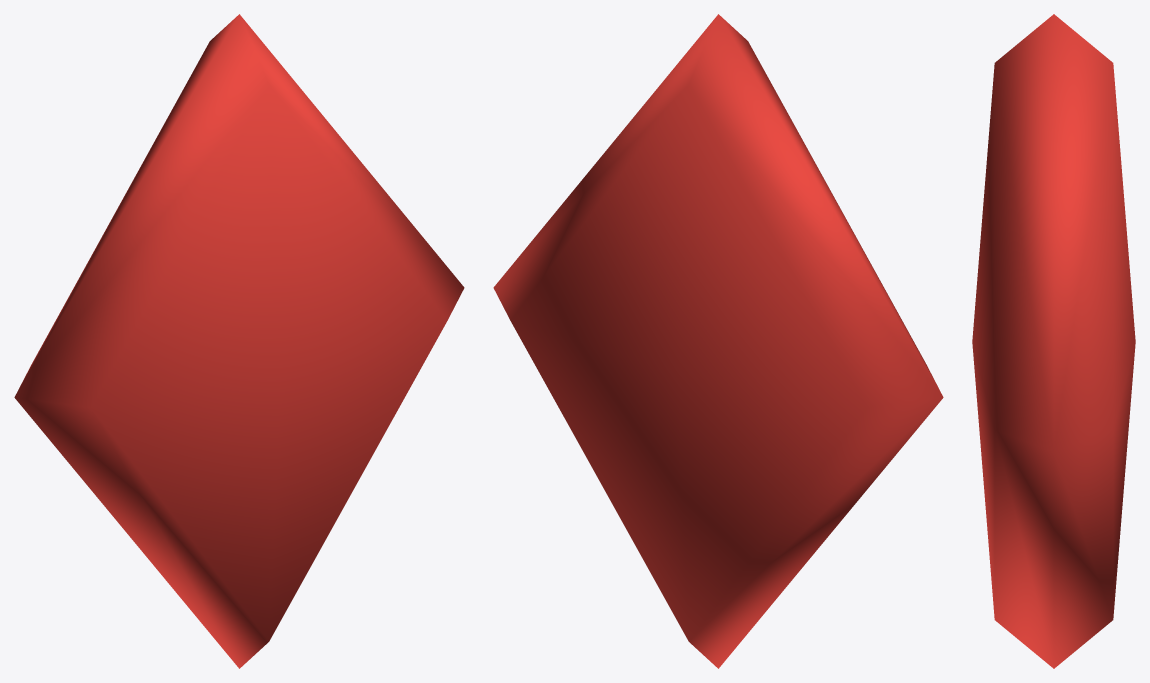
File: diamond.glb
The picture shows the model from 3 angles, left to right: view 1: azimuth 30°, elevation 25°; view 2: azimuth 150°, elevation 25°; view 3: azimuth 270°, elevation 25°; orthographic projection.
Visible parts, largest first — view 1: Cube.005; view 2: Cube.005; view 3: Cube.005.
Boxes of the visible parts, x1=… form: Cube.005: x1=14, y1=14, x2=464, y2=668; Cube.005: x1=493, y1=14, x2=943, y2=668; Cube.005: x1=972, y1=14, x2=1135, y2=668.
Size of the model in its own units: 0.841 by 1.17 by 0.2643.
